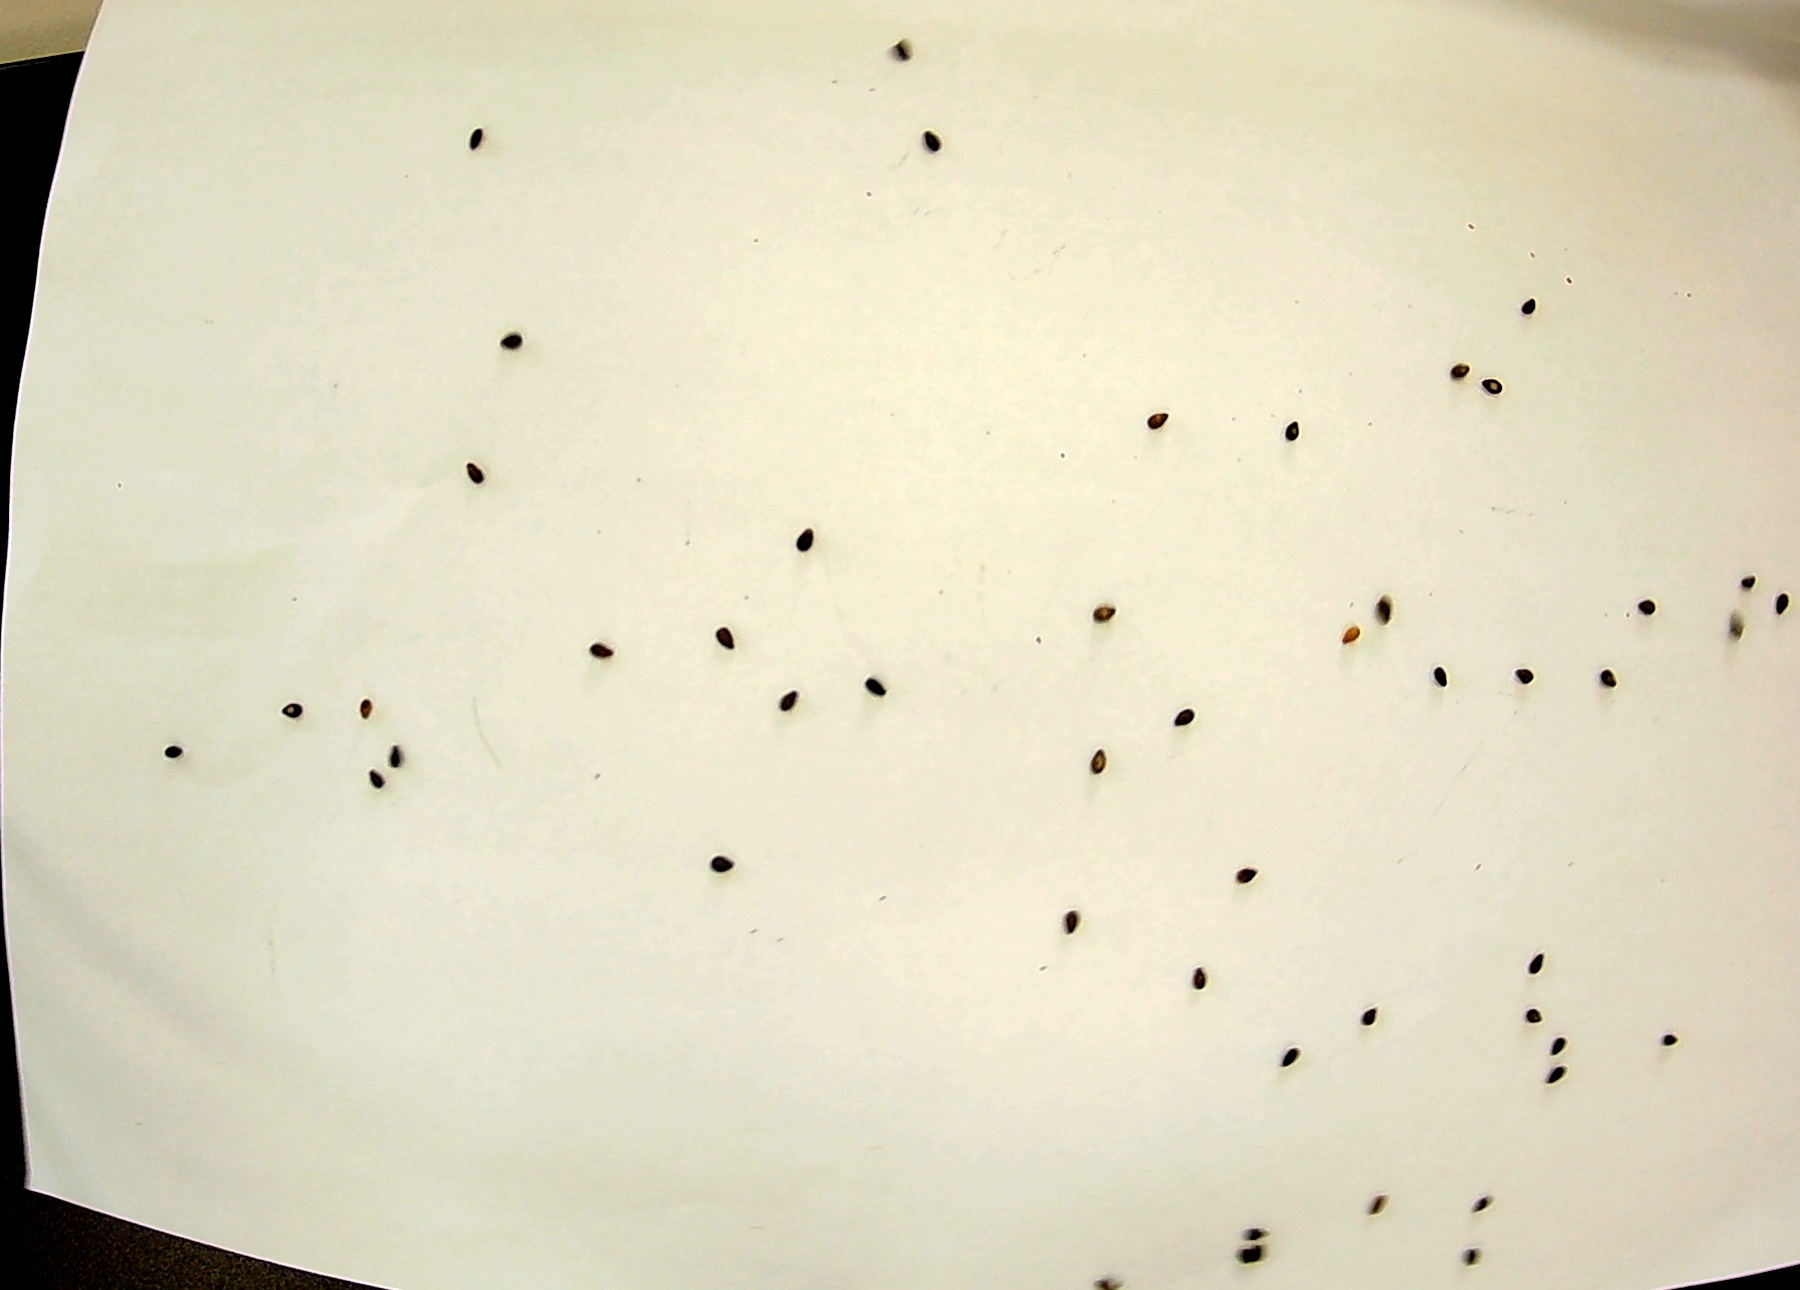sesami: (491, 318, 520, 362), (1531, 942, 1560, 986), (1723, 607, 1753, 651), (1088, 734, 1118, 778), (1370, 579, 1400, 623), (1508, 653, 1538, 697), (1631, 579, 1660, 623), (885, 28, 914, 70), (915, 121, 945, 163), (868, 665, 897, 706), (788, 515, 818, 557), (357, 684, 387, 726), (373, 722, 402, 764), (361, 758, 391, 800), (162, 727, 191, 769), (705, 831, 734, 873), (1060, 899, 1090, 941), (1278, 1033, 1307, 1075), (1242, 1203, 1271, 1245), (1362, 1178, 1391, 1220), (1454, 1233, 1483, 1275), (1542, 1064, 1571, 1106), (1542, 1021, 1571, 1062), (1647, 1022, 1676, 1064), (1524, 986, 1553, 1028), (1592, 658, 1621, 699), (1732, 547, 1761, 589), (1761, 570, 1790, 611), (1518, 285, 1547, 327), (1485, 369, 1514, 410), (1450, 355, 1479, 396), (1287, 408, 1316, 450), (1141, 406, 1171, 448), (1165, 697, 1194, 739), (1342, 607, 1372, 649), (1423, 651, 1453, 692), (1232, 852, 1261, 894), (458, 114, 486, 156), (453, 450, 481, 491), (592, 625, 620, 667), (712, 618, 740, 660), (774, 681, 802, 723), (278, 685, 306, 727), (1185, 954, 1213, 995), (1365, 993, 1393, 1035), (1478, 1174, 1506, 1216), (1093, 589, 1120, 631)
